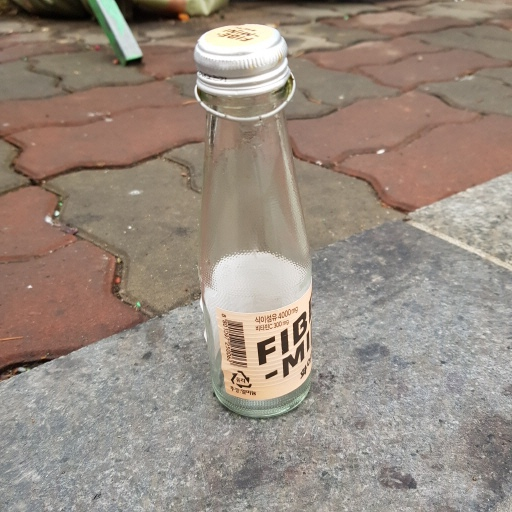Glass_4: (184, 23, 322, 419)
